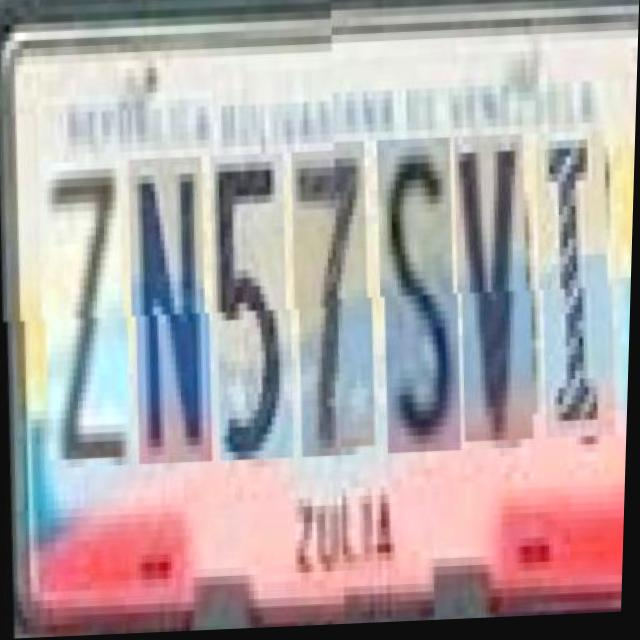5: (206, 154, 298, 464)
7: (288, 152, 380, 462)
i: (532, 143, 619, 453)
n: (125, 157, 217, 467)
s: (372, 149, 467, 466)
v: (450, 146, 538, 456)
z: (34, 161, 136, 462)
